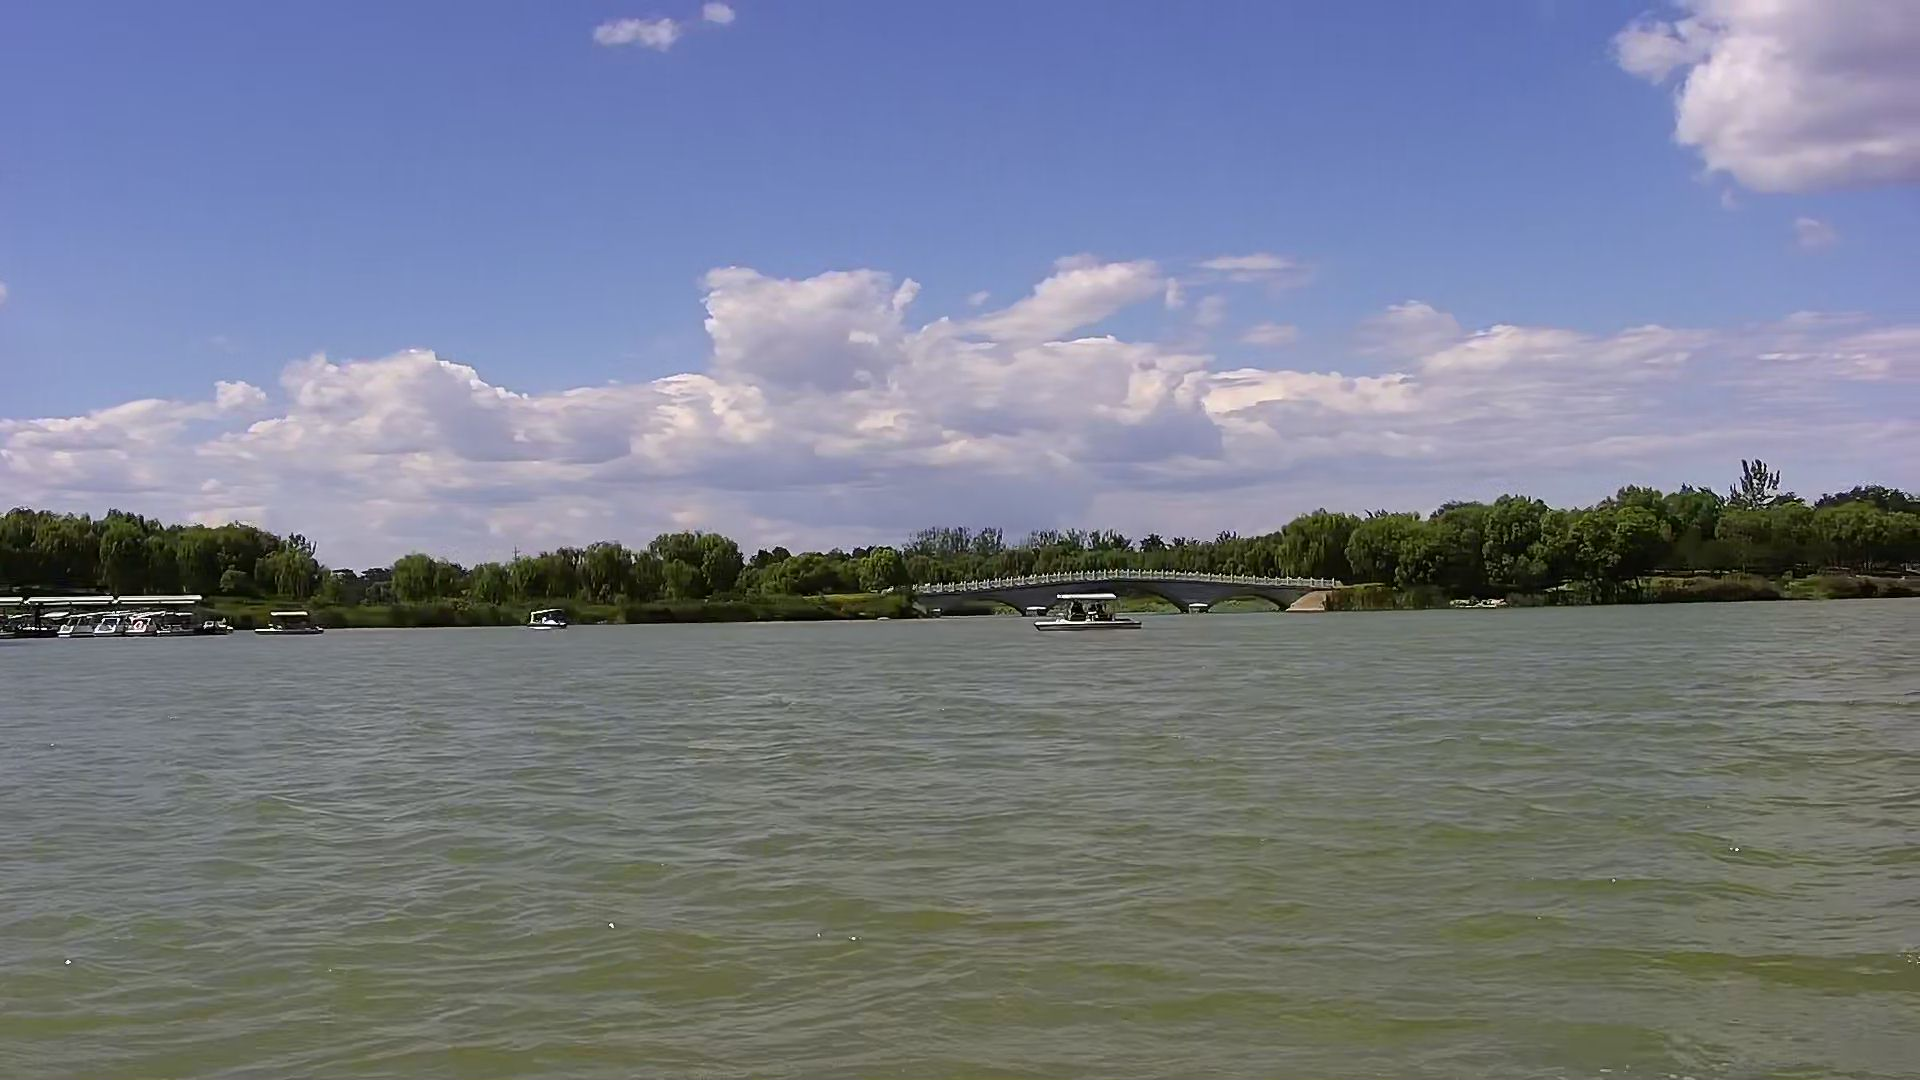boat: (1029, 588, 1143, 638), (253, 611, 342, 640), (521, 603, 571, 642)
bridge: (907, 568, 1352, 612)
